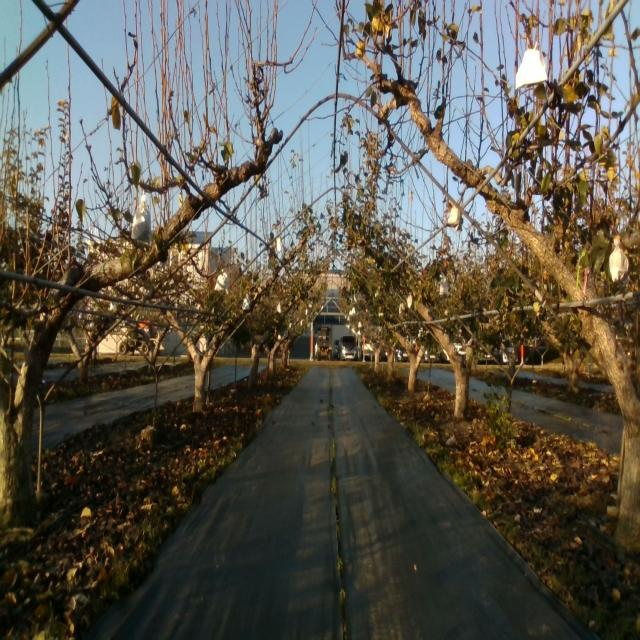pearbags: (515, 40, 548, 91), (131, 195, 152, 246), (608, 245, 628, 283), (214, 270, 229, 295), (448, 204, 460, 230), (440, 277, 450, 295)
